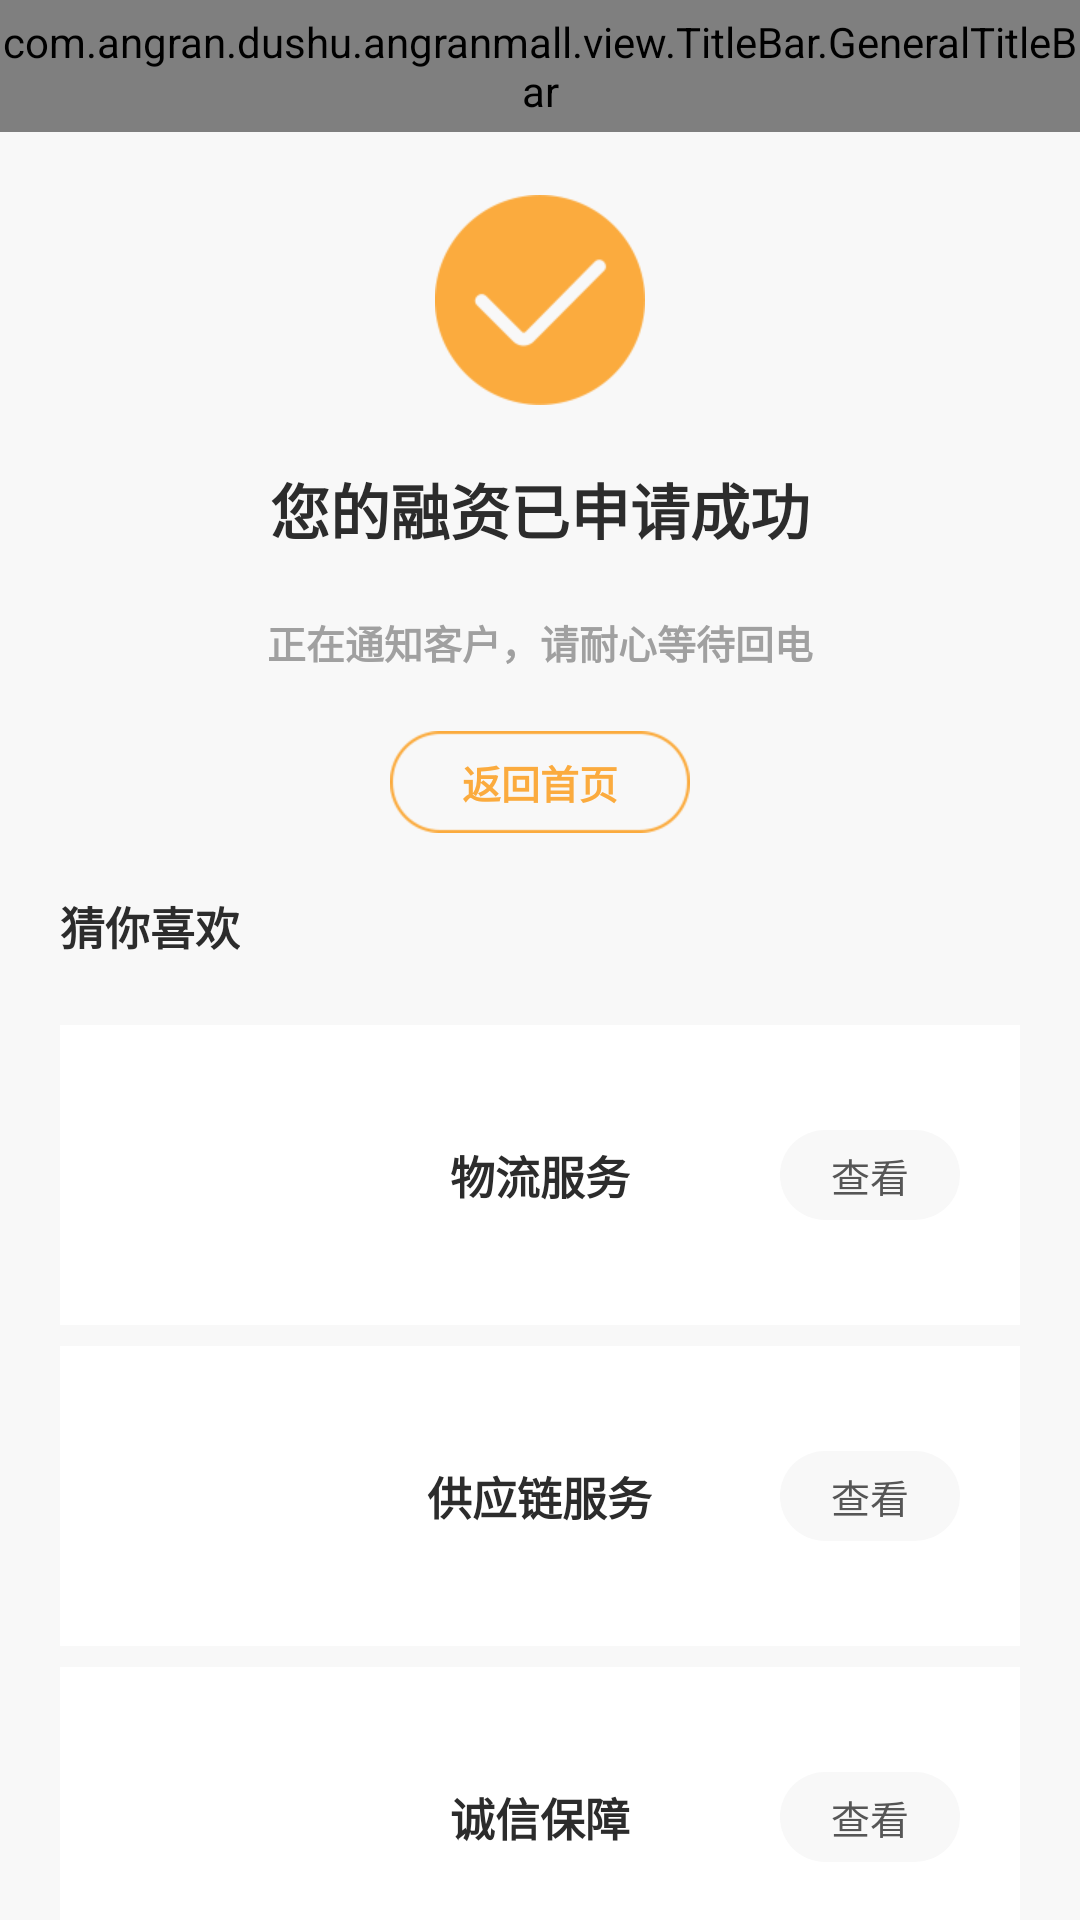

Where to tap for icons on this 1080*1920 app screen, as (x=x, y=y):
financing success: (x=540, y=300)
